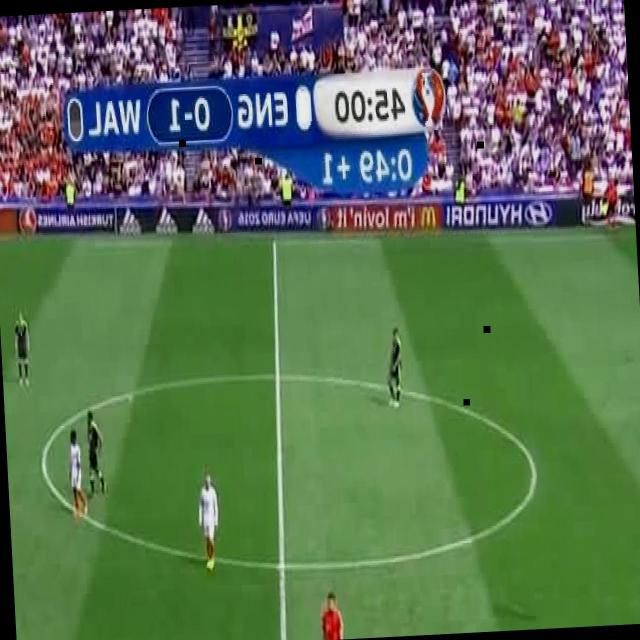player-white: (196, 468, 224, 570), (84, 409, 108, 493), (308, 589, 346, 640), (68, 428, 88, 522), (384, 325, 406, 409), (12, 310, 32, 387)
